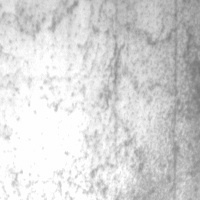pitted_surface: (73, 24, 181, 183), (1, 64, 112, 194), (1, 1, 81, 42)
